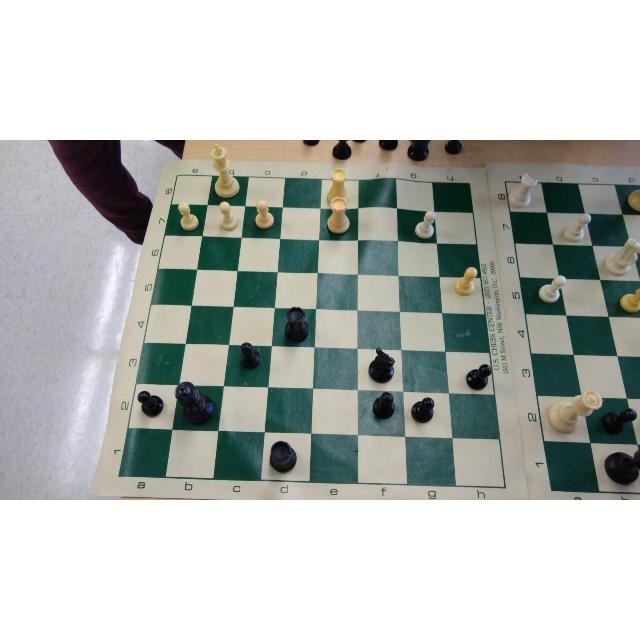black-king: (173, 379, 217, 426)
black-knight: (365, 346, 396, 385)
black-pawn: (599, 405, 638, 436), (135, 389, 165, 418), (464, 362, 492, 393), (372, 389, 396, 423), (410, 395, 435, 425), (238, 340, 262, 371)
black-rook: (604, 446, 640, 488), (282, 304, 310, 344), (268, 439, 298, 475)
white-king: (208, 142, 241, 200)
white-knight: (602, 237, 639, 277)
white-pawn: (561, 211, 592, 245), (538, 274, 569, 305), (175, 199, 200, 232), (215, 200, 239, 233), (452, 265, 477, 296), (252, 198, 276, 229), (413, 209, 437, 240), (620, 285, 640, 315)
white-queen: (544, 388, 604, 436)
white-rook: (506, 173, 539, 209), (326, 195, 352, 235), (326, 166, 350, 205)
